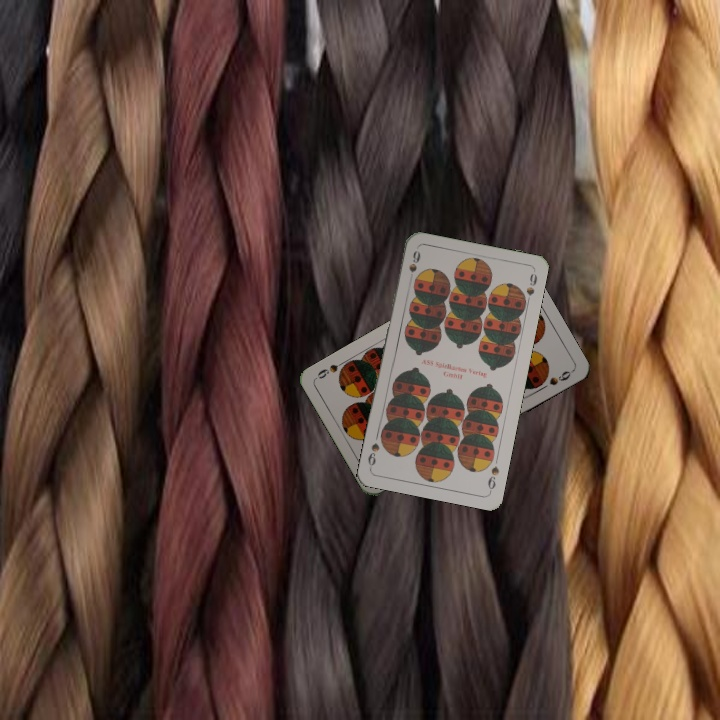S9: (405, 247, 423, 286), (484, 462, 502, 494)
